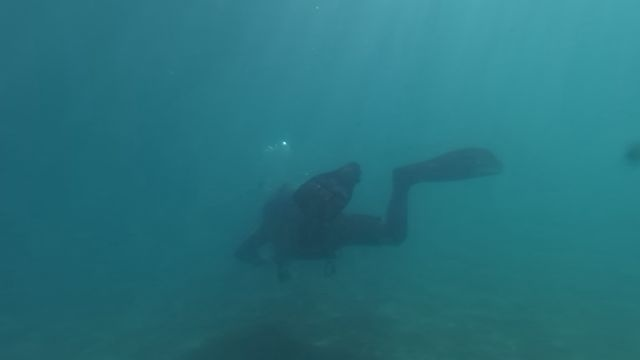Diver: (217, 139, 524, 285)
